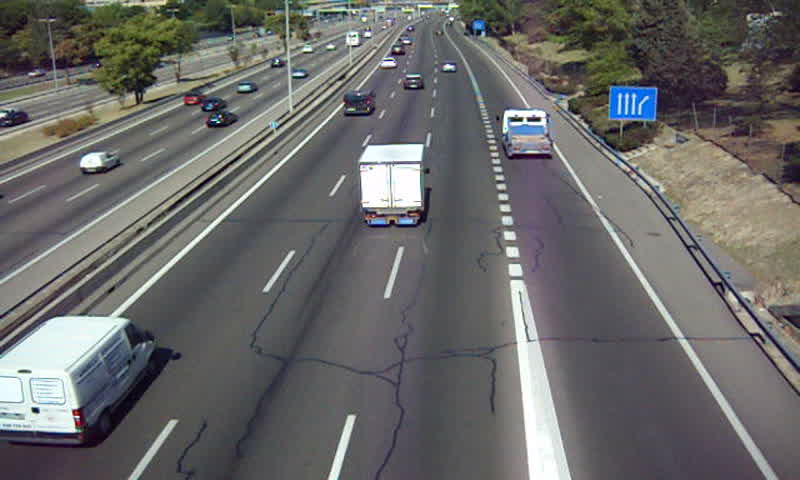car: (402, 73, 425, 93), (379, 56, 396, 71), (442, 60, 458, 73)
small-truck: (359, 144, 427, 227), (502, 108, 552, 157)
van: (1, 317, 157, 448), (342, 90, 374, 115)
